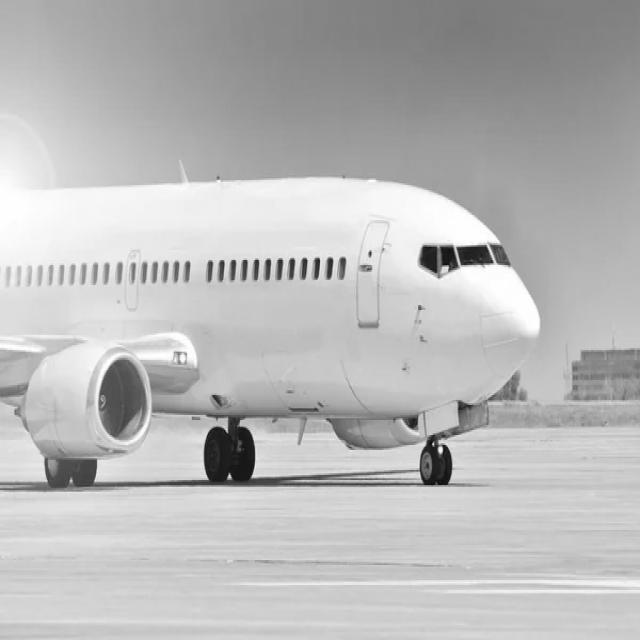Aircraft: (0, 174, 544, 488)
